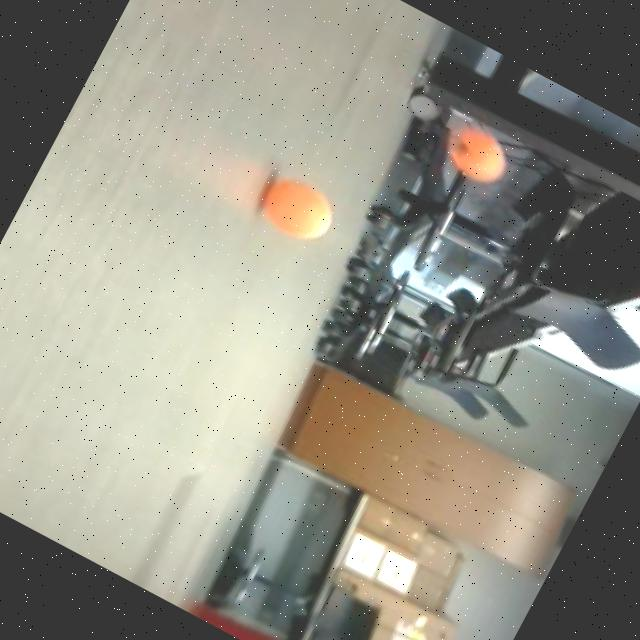ping-pong-ball: (244, 160, 351, 257), (436, 118, 520, 194)
